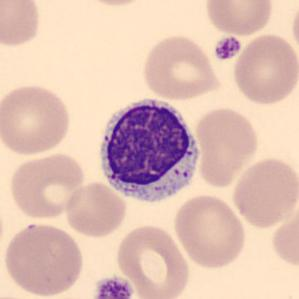Lymphocyte: (91, 92, 206, 209)
Platelets: (91, 274, 135, 299), (212, 34, 242, 62)
RBC: (0, 221, 85, 298), (114, 222, 192, 299), (172, 193, 248, 270), (140, 32, 223, 102), (192, 104, 261, 188), (7, 150, 88, 221), (0, 81, 74, 157), (229, 154, 298, 230), (231, 32, 298, 106), (63, 180, 129, 238), (202, 0, 276, 38), (0, 0, 43, 50), (269, 206, 298, 271), (289, 0, 299, 59), (74, 0, 154, 7)
